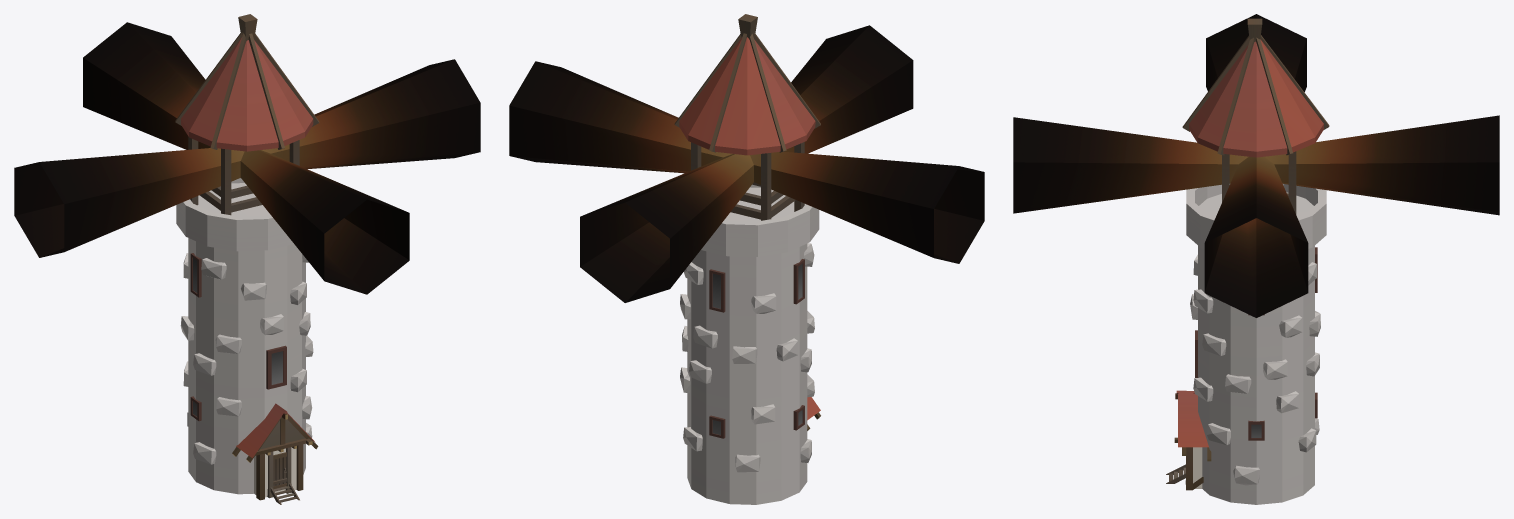
File: LightHouse.fbx
3 views of the same model, side by side, from view 1: azimuth 30°, elevation 25°; view 2: azimuth 150°, elevation 25°; view 3: azimuth 270°, elevation 25° (orthographic).
Visible parts, largest first — view 1: Light, House; view 2: Light, House; view 3: Light, House.
Part boxes in pixels (left/top/right/bottom): Light: left=14, top=22, right=480, bottom=294; House: left=175, top=14, right=319, bottom=504; Light: left=509, top=25, right=984, bottom=302; House: left=674, top=14, right=820, bottom=504; Light: left=1013, top=14, right=1499, bottom=317; House: left=1166, top=18, right=1329, bottom=504.
Bounding box in the file's own units: 1820 × 1892 × 1820.
